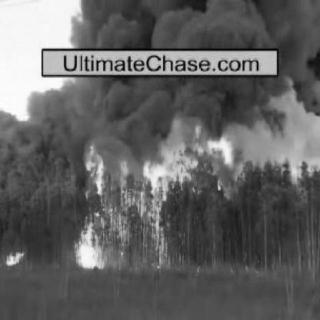Fire: (1, 240, 29, 270)
Smoke: (51, 75, 223, 129), (79, 0, 268, 44)
